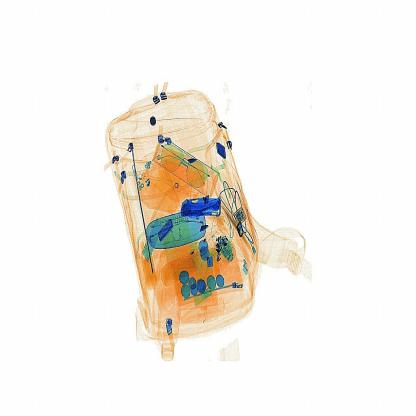knife: (178, 195, 229, 219)
